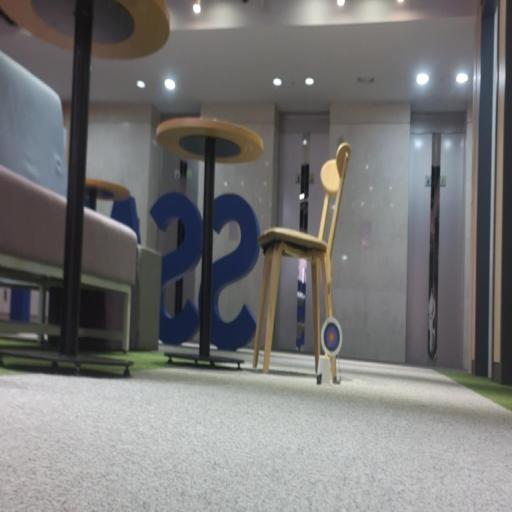target: (321, 317, 342, 356)
